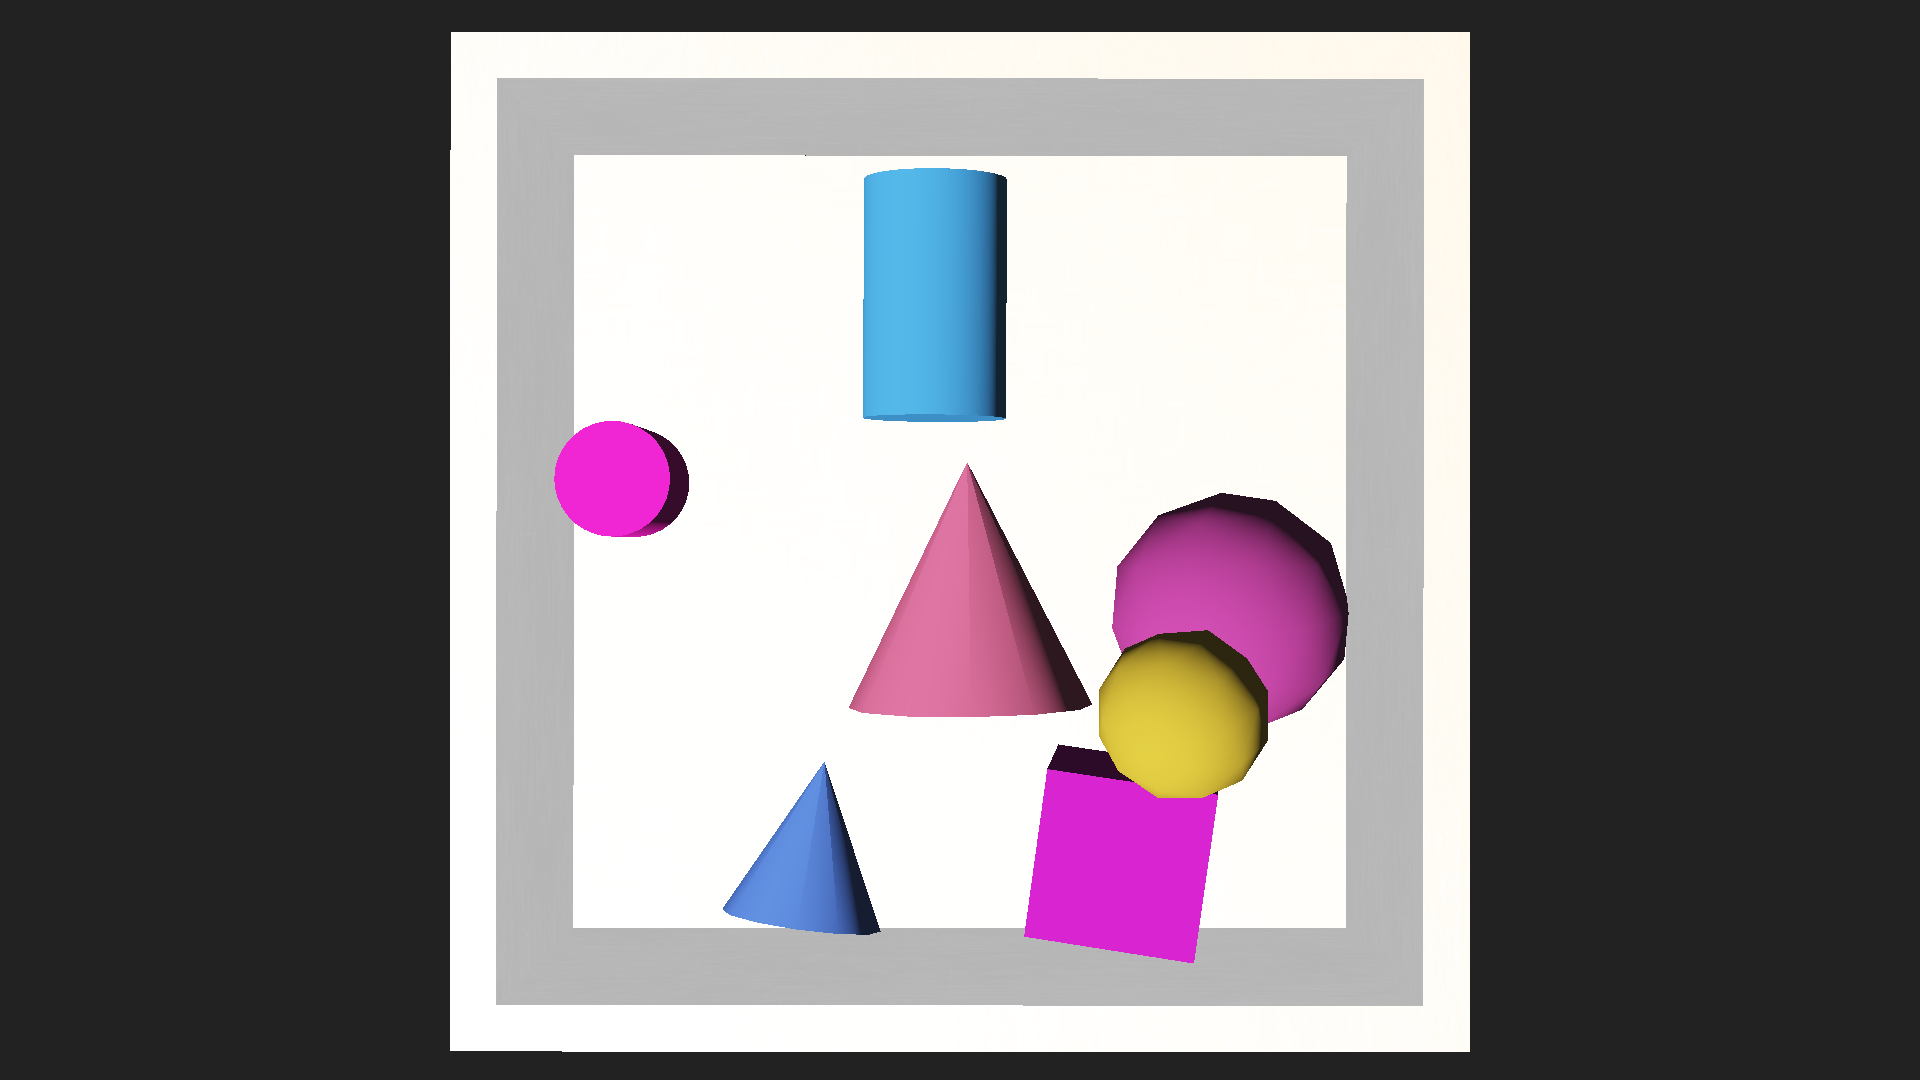3: (1019, 742, 1237, 964)
cone: (858, 167, 1007, 422), (553, 421, 688, 535)
cylinder: (839, 454, 1100, 719), (721, 741, 898, 945)
sphere: (1106, 491, 1352, 735), (1095, 626, 1270, 802)
